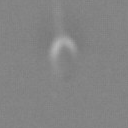normal: (46, 1, 75, 35)
